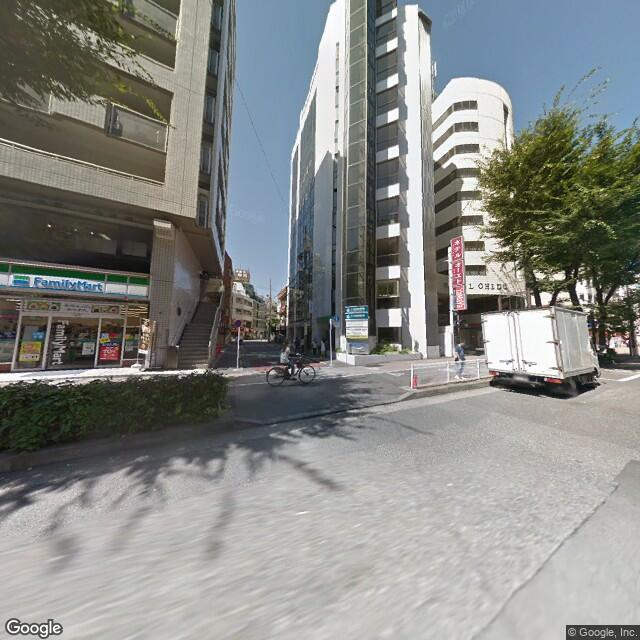family mart: (1, 257, 147, 302)
